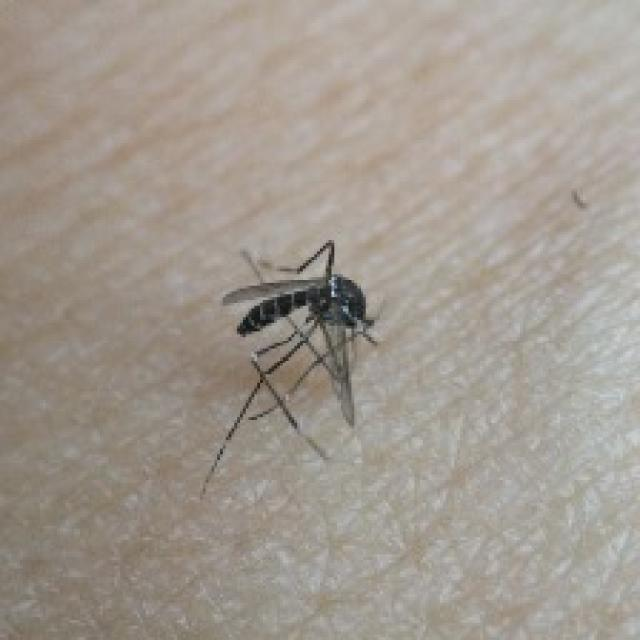aedes: (197, 237, 380, 497)
